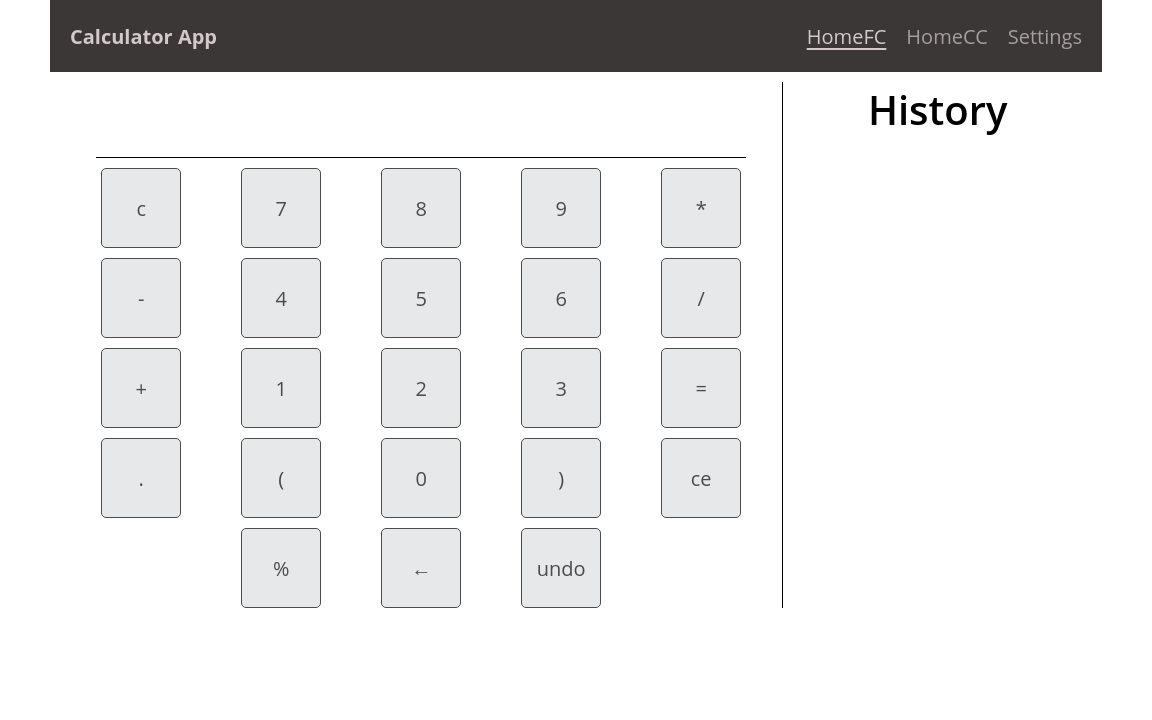
Test: test calcurator app › testing FC divide command
Expected: the element with test id "keypadFC" is shown, [60,158,782,608]
Click the text "5" at (421, 298), box [381,258,461,338]
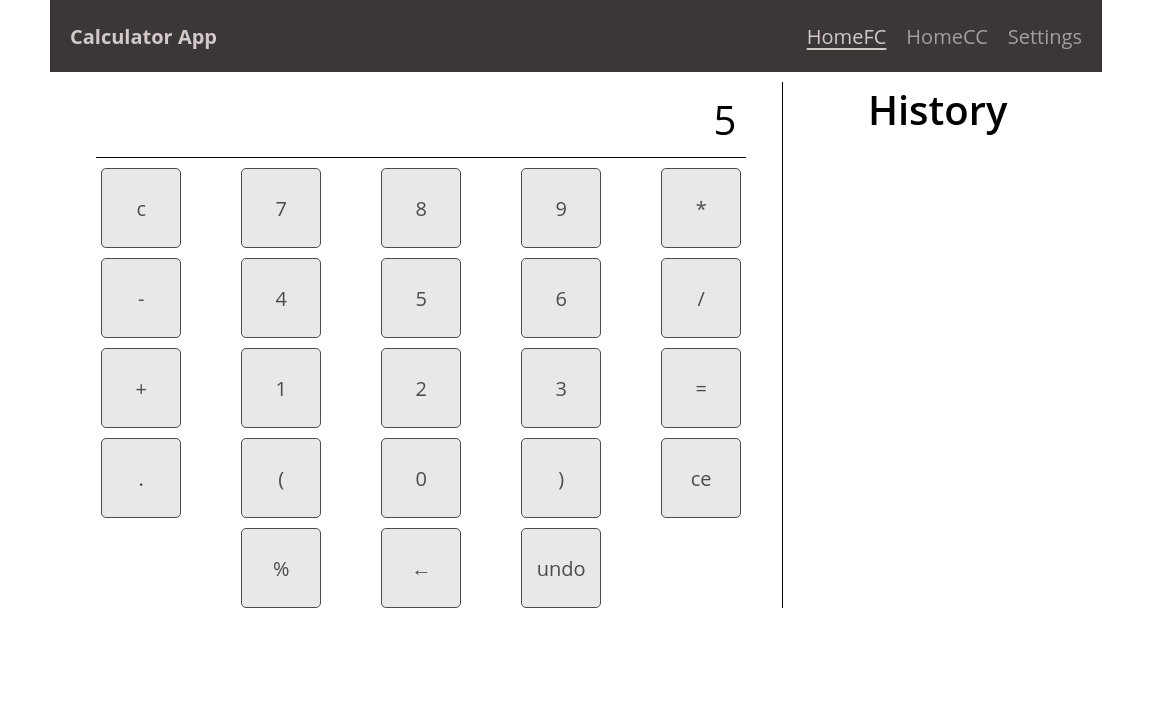
Expected: the element with test id "keypadFC" is shown, [60,158,782,608]
Click the text "/" at (701, 298), box [661,258,741,338]
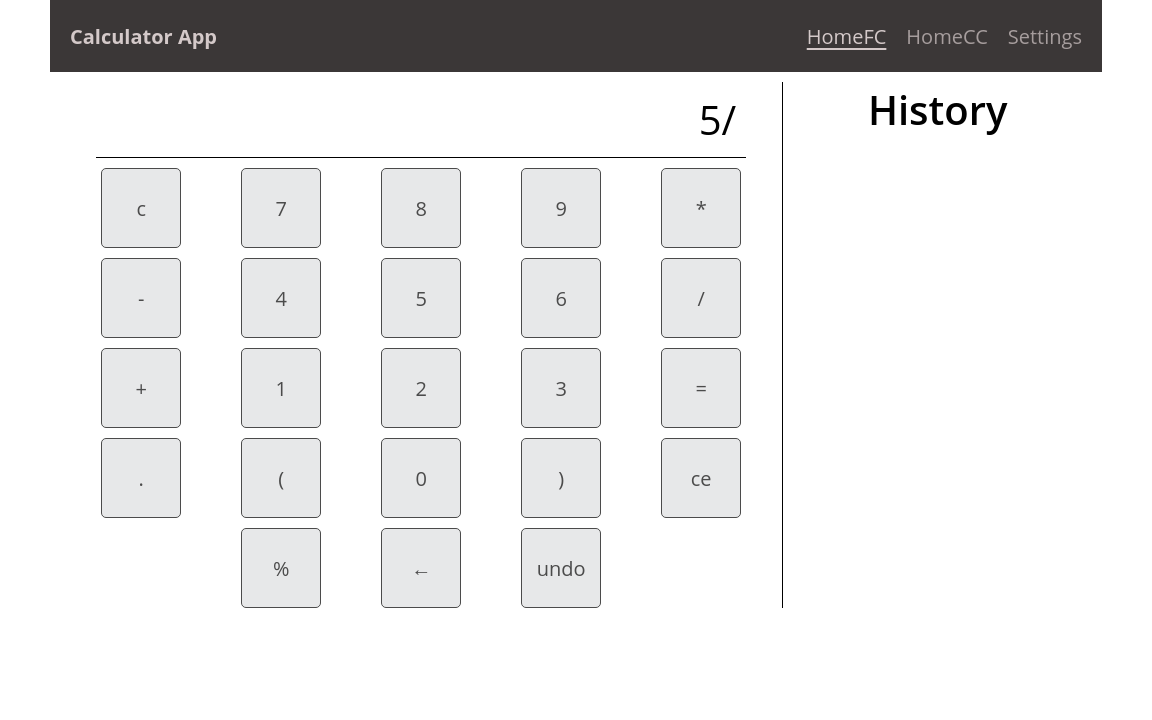
Expected: the element with test id "keypadFC" is shown, [60,158,782,608]
Click the text "6" at (561, 298), box [521,258,601,338]
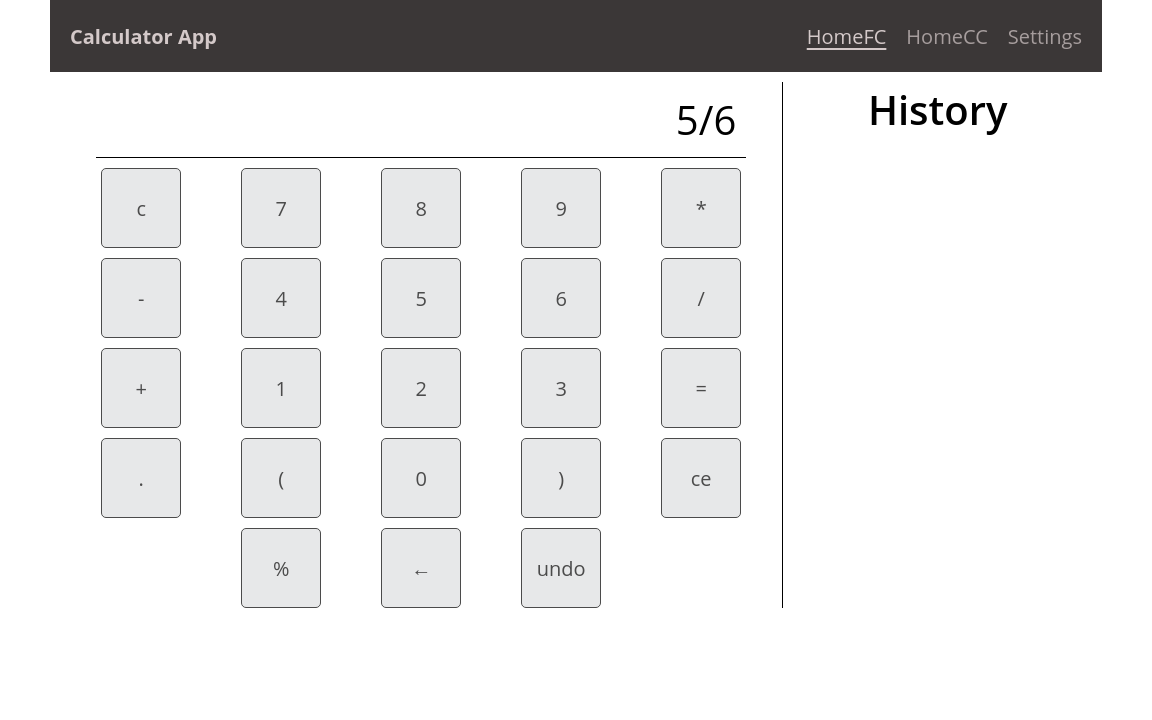
Expected: the element with test id "keypadFC" is shown, [60,158,782,608]
Click the text "=" at (701, 388), box [661,348,741,428]
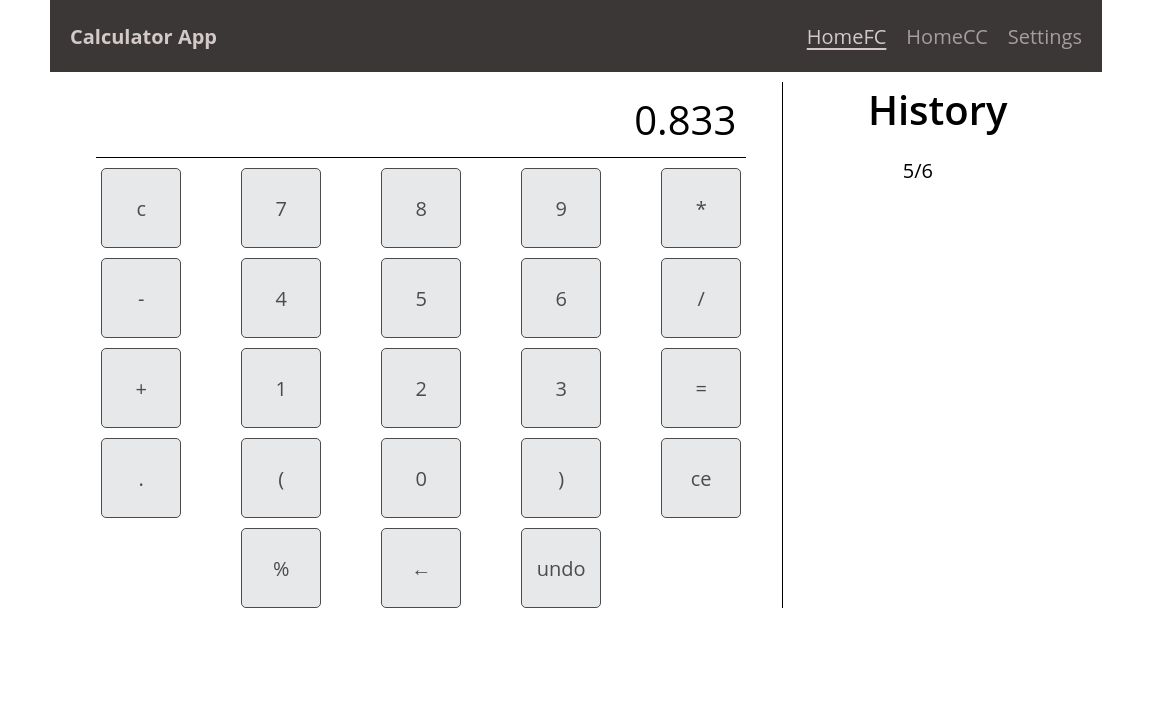
Expected: the element with test id "historyFC" is shown, [868,82,1008,184]
Now the field with test id "displayFC" holds "0.833", box [96,82,746,157]
Now the text "5/6" is shown, box [903,157,933,184]
